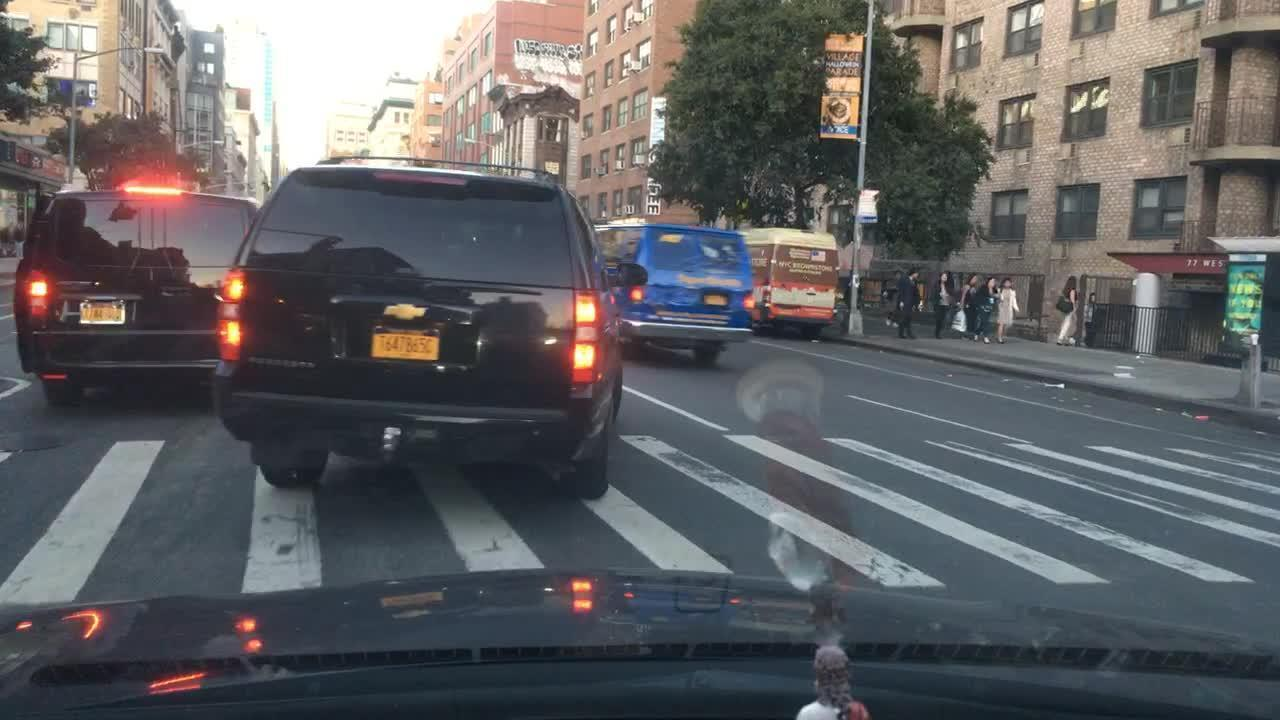chevrolet: (369, 296, 441, 326)
